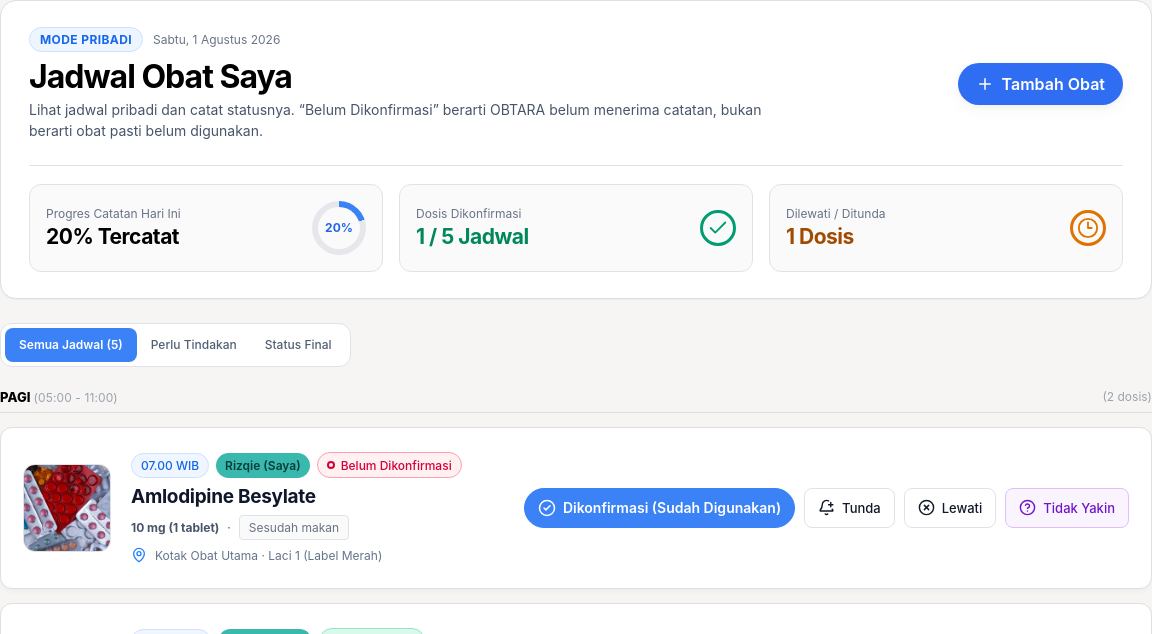
Test: TodayPage › mencatat konfirmasi hanya sekali dari baris obat
Expected: the element "Amlodipine Besylate" is shown, [0,427,1151,589]
Click the button "Dikonfirmasi (Sudah Digunakan)" at (660, 508), box [524,488,795,528]
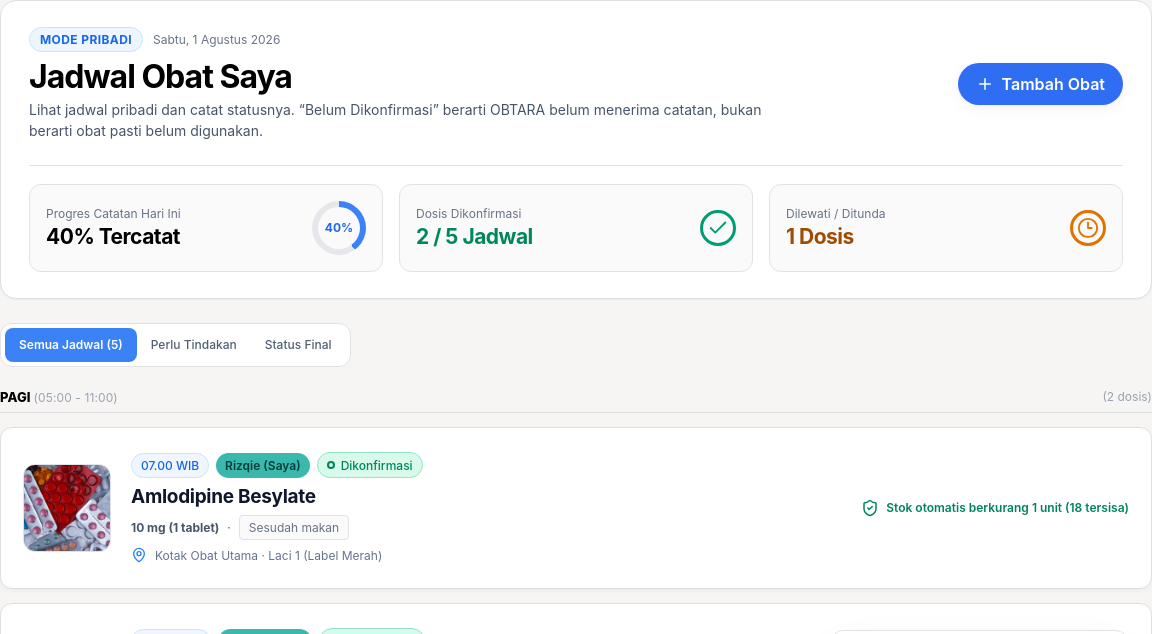
Expected: the button "Dikonfirmasi (Sudah Digunakan)" is not shown
Expected: the text "Stok otomatis berkurang 1 unit (18 tersisa)" is shown, [886,500,1129,515]
